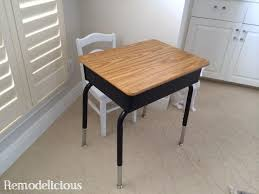desk: (76, 38, 198, 189)
